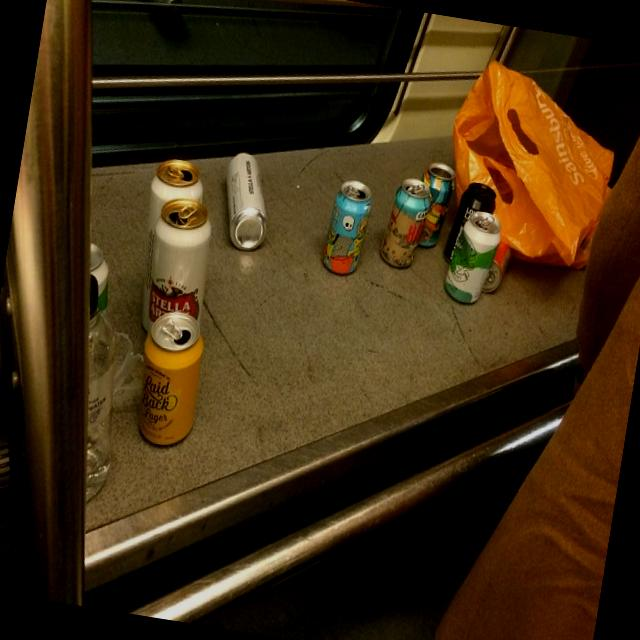Recycle: (50, 242, 146, 508), (129, 308, 214, 454), (140, 196, 219, 342), (138, 156, 210, 286), (212, 149, 280, 256), (440, 206, 500, 308), (378, 172, 435, 275), (322, 177, 376, 278), (445, 177, 501, 270), (412, 160, 456, 250), (480, 237, 514, 296)
